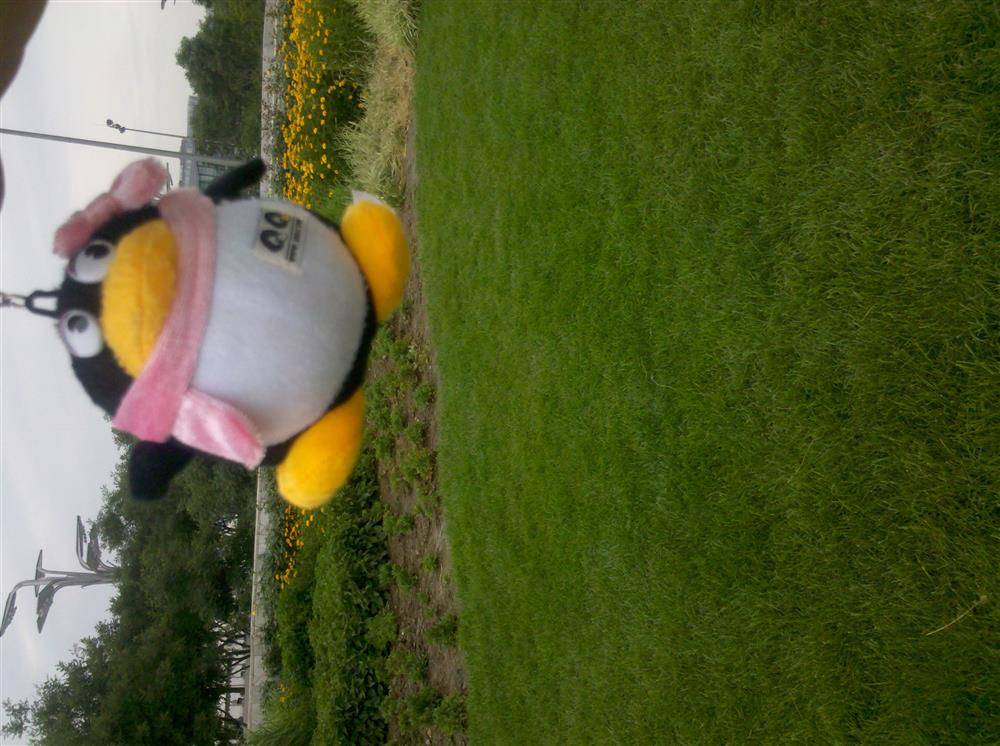Tencent_Penguin: (51, 158, 412, 512)
